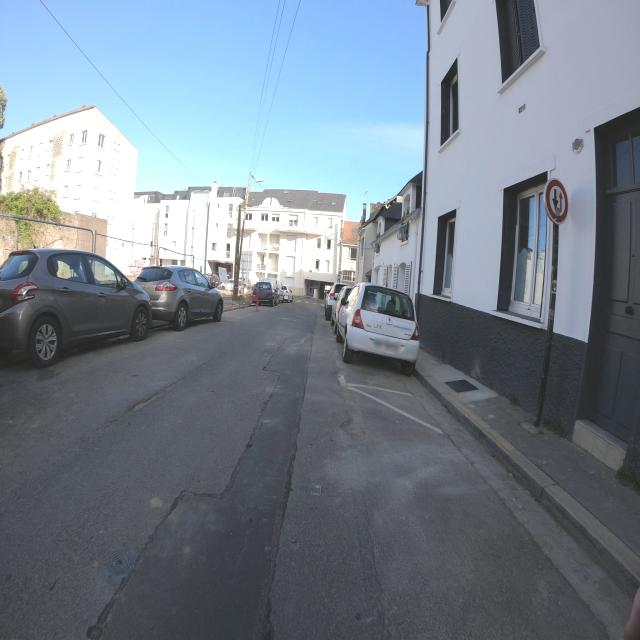car: (0, 248, 154, 370), (338, 282, 420, 375), (133, 265, 225, 331), (331, 285, 354, 330), (324, 282, 350, 321), (250, 280, 279, 308), (278, 285, 294, 303)
